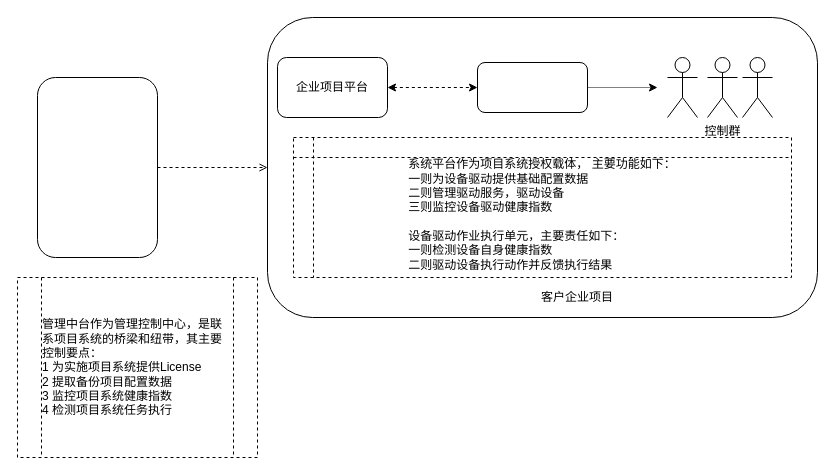
Some shapes in this 835 by 475 pixel diagram are drawn without their labels. The centre of each missing label's shape, as x and y in pixels:
管理中台: [97,167]
设备驱动管理: [532,87]
